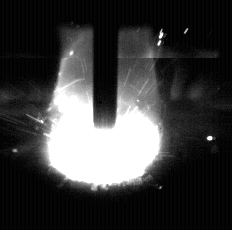arame: (94, 0, 119, 128)
poca: (46, 0, 162, 230)
